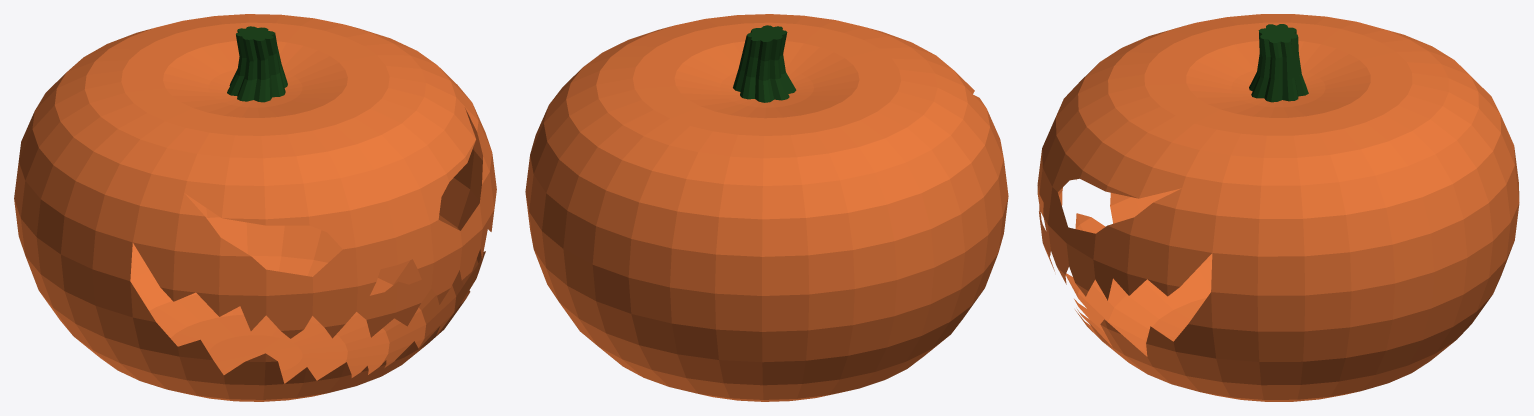
The model's file is pumpkin_3.glb.
3 renders of one model, left to right at view 1: azimuth 30°, elevation 25°; view 2: azimuth 150°, elevation 25°; view 3: azimuth 270°, elevation 25°, orthographic.
Parts seen in each view (by area): view 1: Pumpkin.002, Cylinder.002; view 2: Pumpkin.002, Cylinder.002; view 3: Pumpkin.002, Cylinder.002.
Boxes of the visible parts, <box> form: Pumpkin.002: <box>14,14,496,401</box>; Cylinder.002: <box>227,26,287,102</box>; Pumpkin.002: <box>525,14,1008,401</box>; Cylinder.002: <box>733,25,796,102</box>; Pumpkin.002: <box>1037,14,1519,401</box>; Cylinder.002: <box>1249,24,1308,102</box>.
Size of the model in its own units: 1.03 by 0.764 by 1.03.
